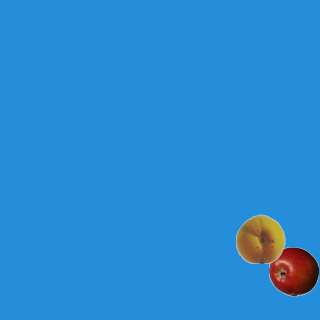Apple Braeburn: (268, 246, 318, 296)
Peach 2: (235, 213, 285, 263)
